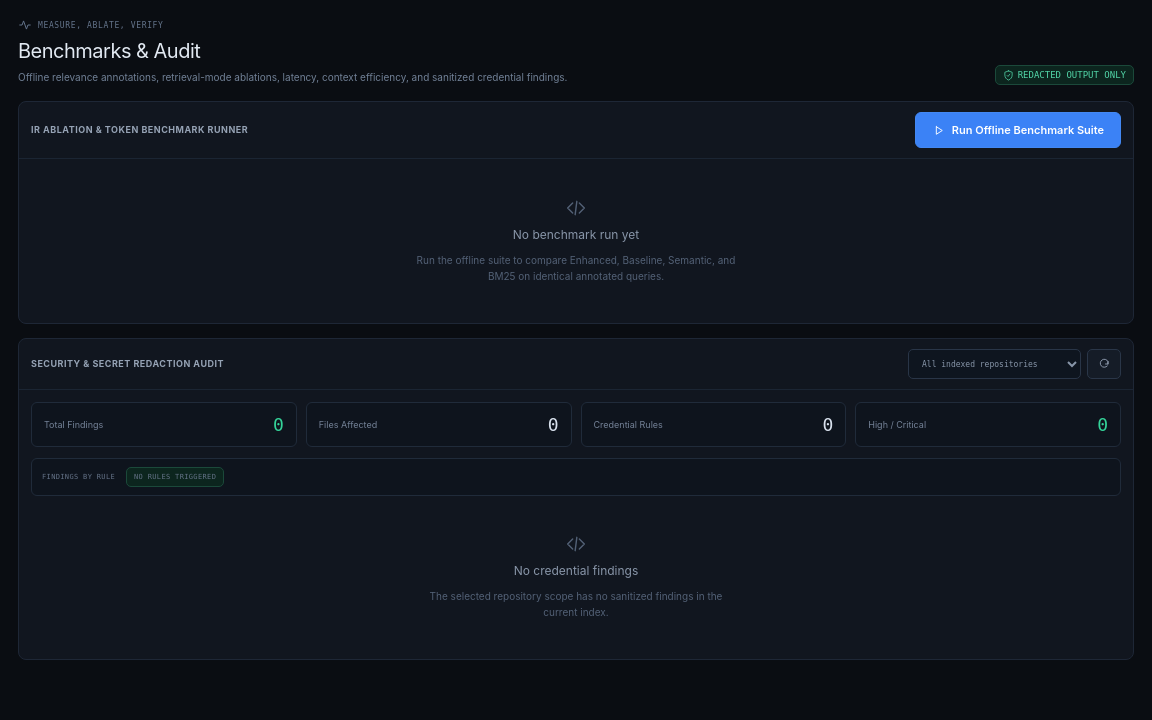
BenchmarksWorkspace › renders empty benchmark and audit states
The width and height of the screenshot is (1152, 720).
Expected: the text "No credential findings" is shown, [514,562,638,580]
Click the button "Run Offline Benchmark Suite" at (1018, 130), box [915,112,1121,148]
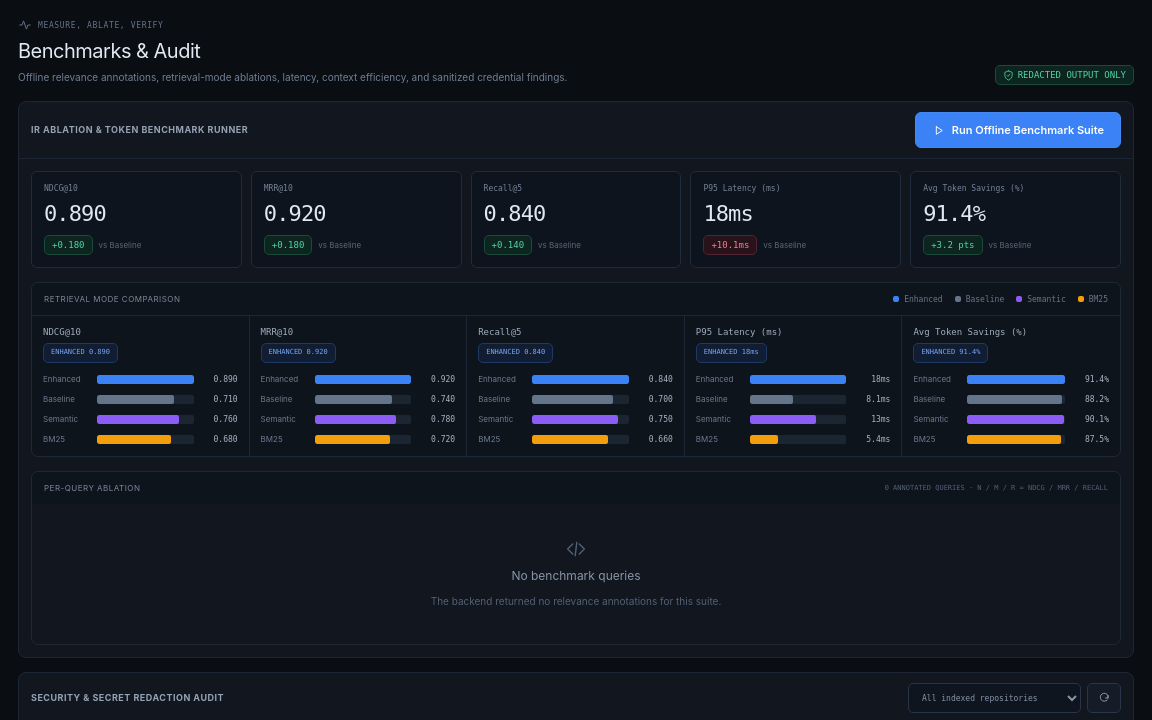
Expected: the text "No benchmark queries" is shown, [511,567,641,585]
